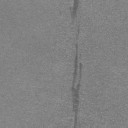red iron: (70, 43, 82, 128), (70, 0, 80, 20), (76, 26, 80, 40)
